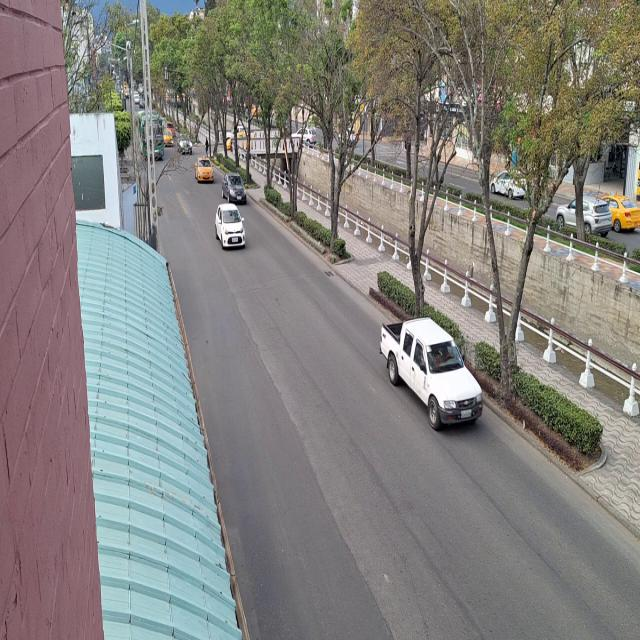CMT: (379, 318, 483, 428)
SED: (215, 207, 244, 250), (219, 167, 250, 206), (195, 156, 217, 185)
